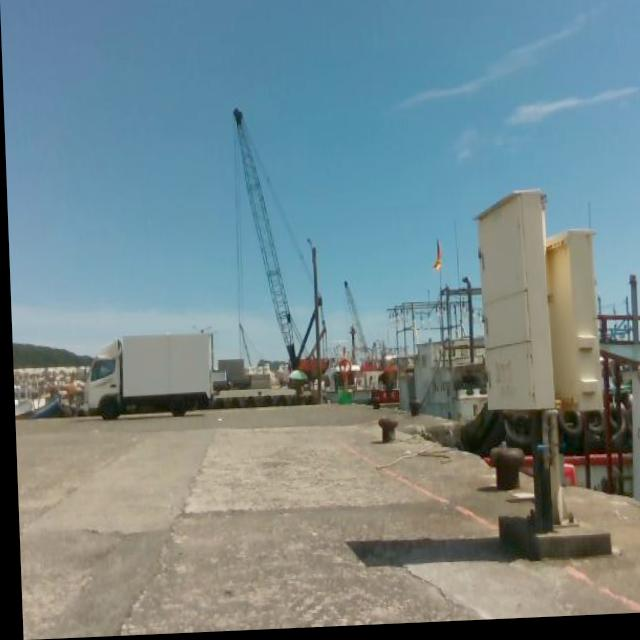pollute: (214, 417, 220, 422)
